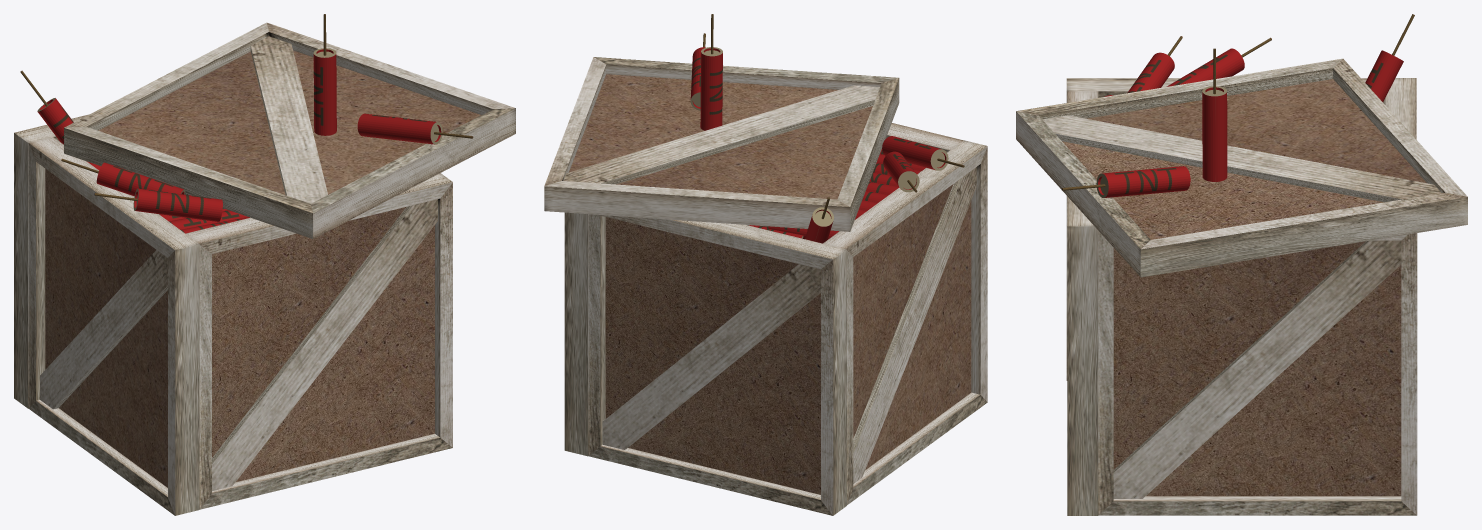
File: dynamite_crate.fbx
3 views of the same model, side by side, from view 1: azimuth 30°, elevation 25°; view 2: azimuth 150°, elevation 25°; view 3: azimuth 270°, elevation 25° (orthographic). The views are drawn at different scales.
Visible parts, largest first — view 1: Crate; view 2: Crate; view 3: Crate.
Boxes of the visible parts, x1=… form: Crate: x1=14, y1=14, x2=515, y2=515; Crate: x1=544, y1=14, x2=987, y2=515; Crate: x1=1016, y1=14, x2=1467, y2=515.
Bounding box in the file's own units: 146 × 164 × 155.
